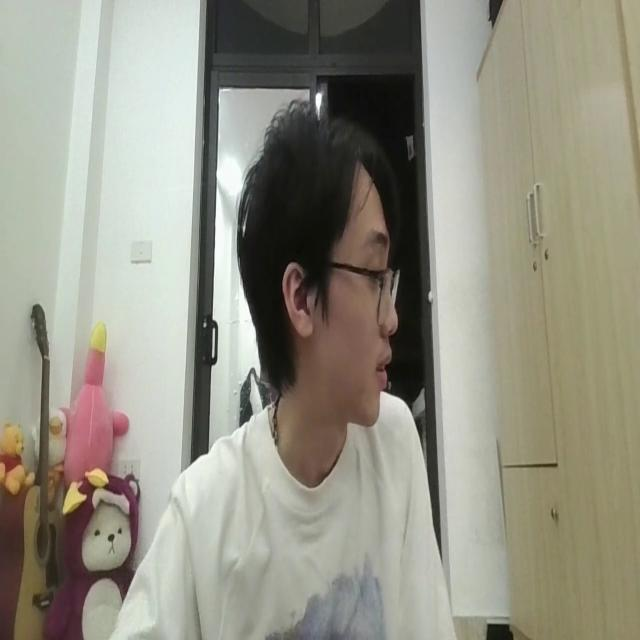student: (116, 98, 456, 640)
